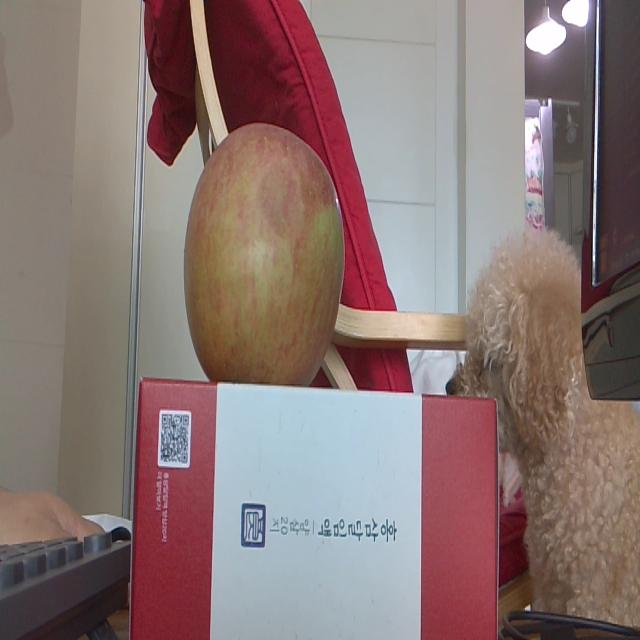apple: (183, 118, 350, 382)
